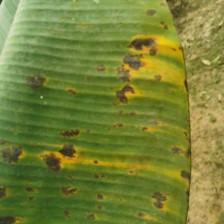pestalotiopsis: (0, 0, 191, 224)
